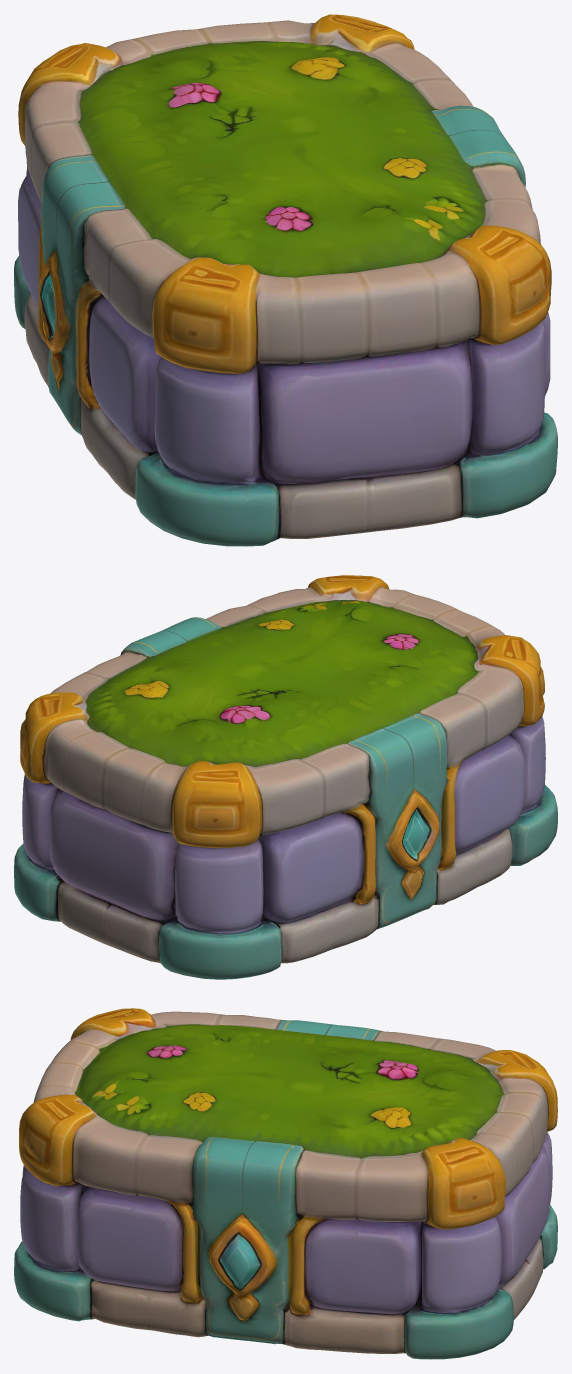
File: 16-garden-rounded-planter.glb
The picture shows the model from 3 angles, top to bottom: view 1: azimuth 30°, elevation 25°; view 2: azimuth 150°, elevation 25°; view 3: azimuth 270°, elevation 25°; orthographic projection. The views are drawn at different scales.
Parts seen in each view (by area): view 1: tripo_node_37e6f8de; view 2: tripo_node_37e6f8de; view 3: tripo_node_37e6f8de.
Boxes of the visible parts, x1,y1,x2,y2 form: tripo_node_37e6f8de: (14,14,557,546); tripo_node_37e6f8de: (14,575,557,979); tripo_node_37e6f8de: (14,1008,557,1359).
Bounding box in the file's own units: 0.5049 × 0.3 × 0.6568.
1 material, 1 textured.
